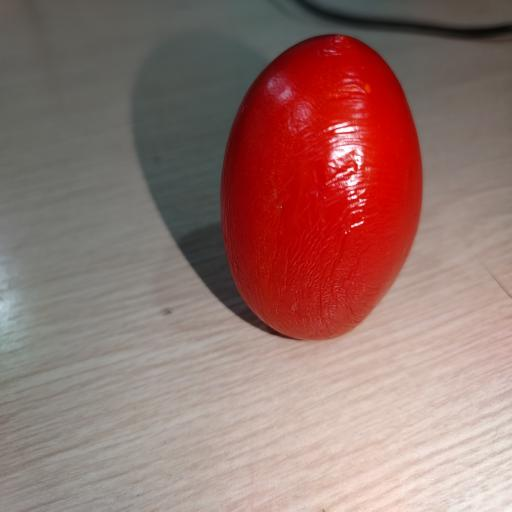spoiled: (221, 35, 422, 339)
